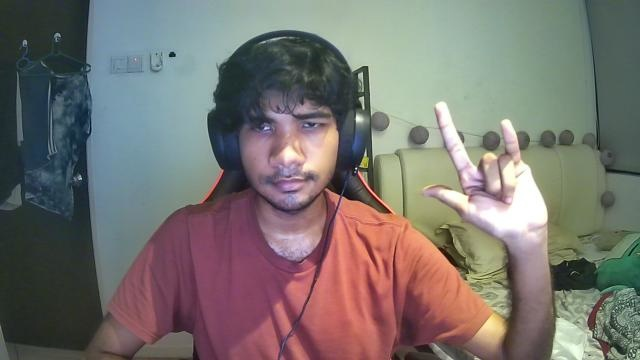I Love You: (421, 99, 555, 244)
